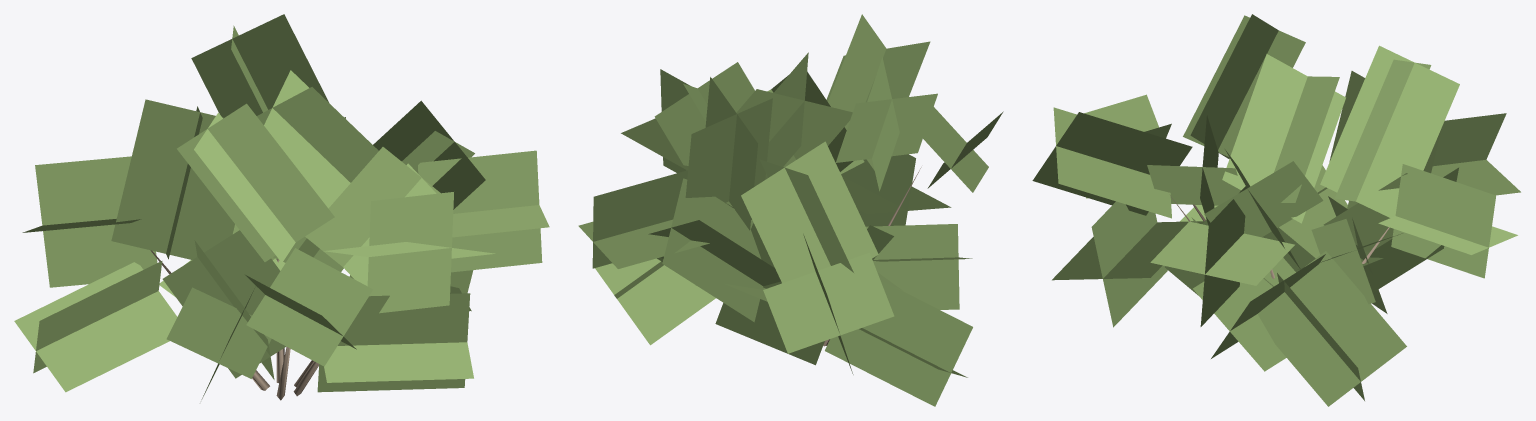
The model's file is Hazel_2_lod2.glb.
3 views of the same model, side by side, from view 1: azimuth 30°, elevation 25°; view 2: azimuth 150°, elevation 25°; view 3: azimuth 270°, elevation 25° (orthographic). The views are drawn at different scales.
Parts seen in each view (by area): view 1: Hazel_2_lod2; view 2: Hazel_2_lod2; view 3: Hazel_2_lod2.
Boxes of the visible parts, left/top/right/bottom form: Hazel_2_lod2: left=14, top=14, right=549, bottom=400; Hazel_2_lod2: left=578, top=14, right=1003, bottom=406; Hazel_2_lod2: left=1032, top=14, right=1520, bottom=406.
Size of the model in its own units: 4.14 by 2.94 by 4.27.
